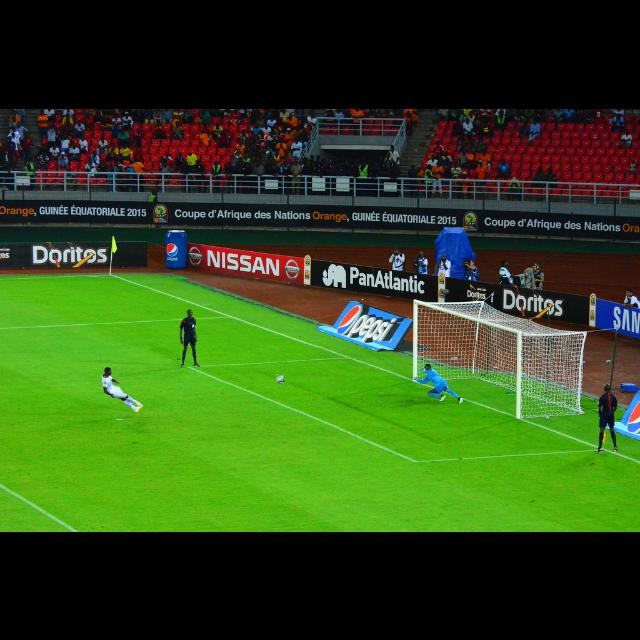Football: (276, 374, 284, 382)
